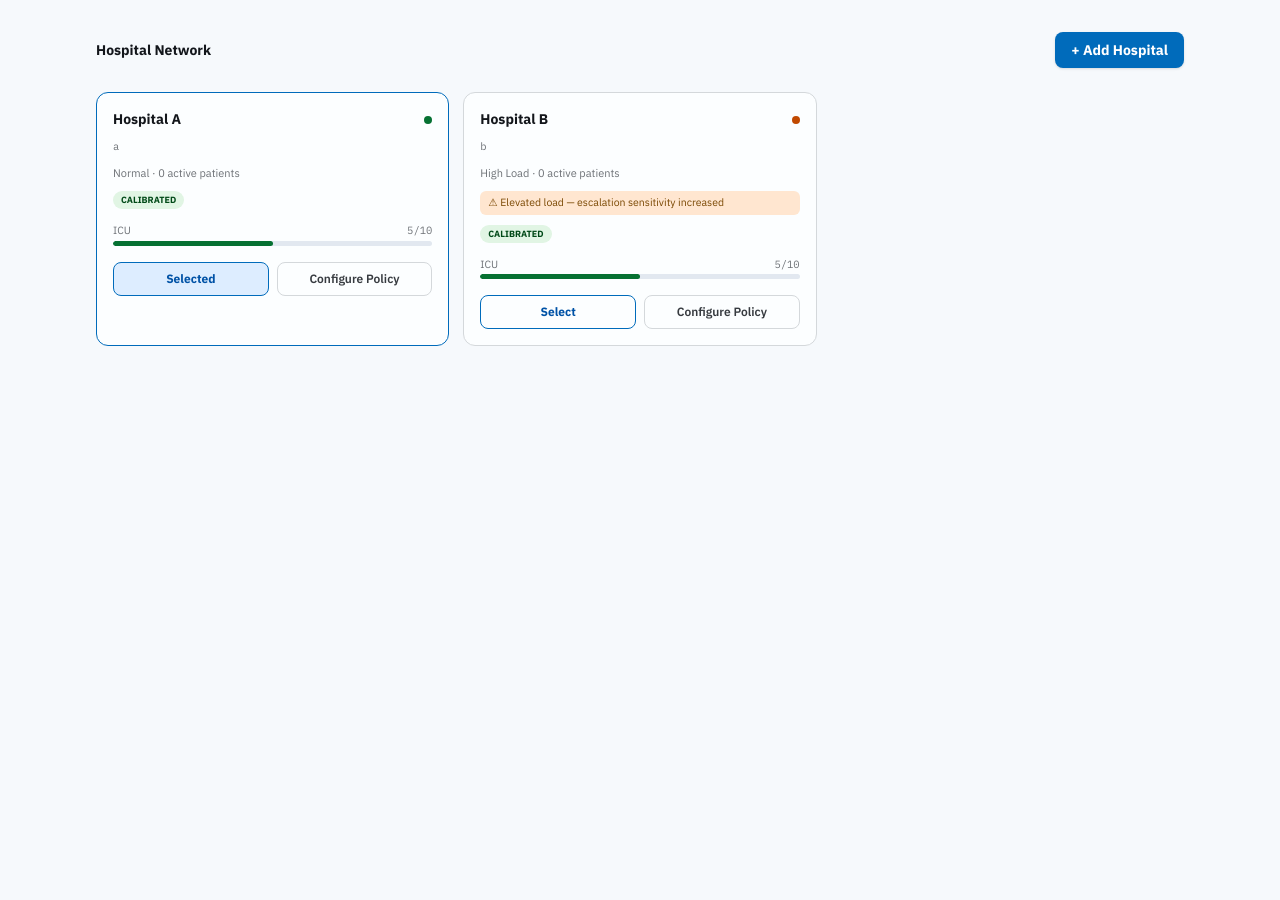
Test: HospitalNetwork › opens the onboarding wizard from + Add Hospital
Expected: the text "Hospital A" is shown, [113, 109, 181, 129]
Click the button "+ Add Hospital" at [1120, 50], box [1055, 32, 1184, 68]
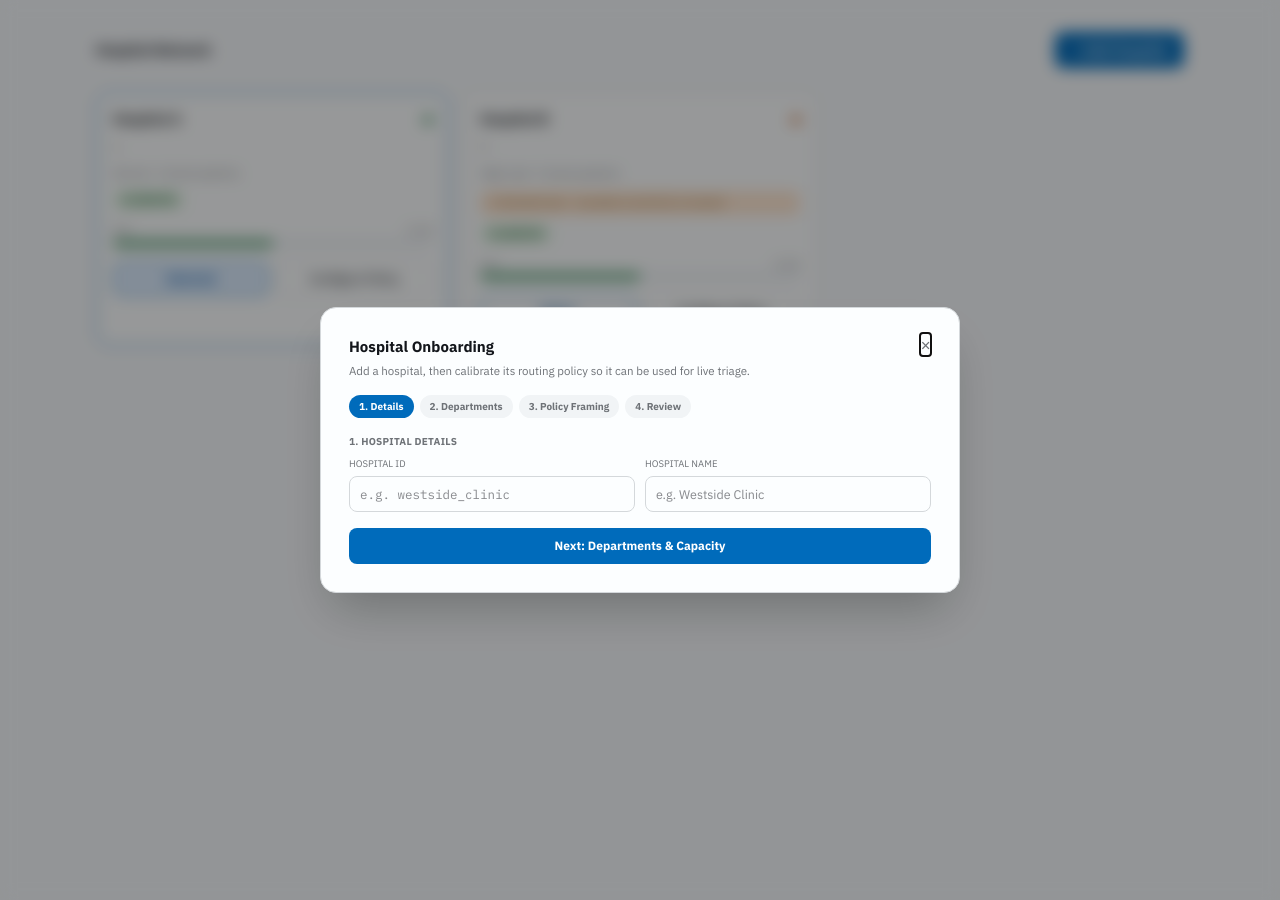
Result: the text "Hospital Onboarding" is shown at [349, 336, 494, 358]
